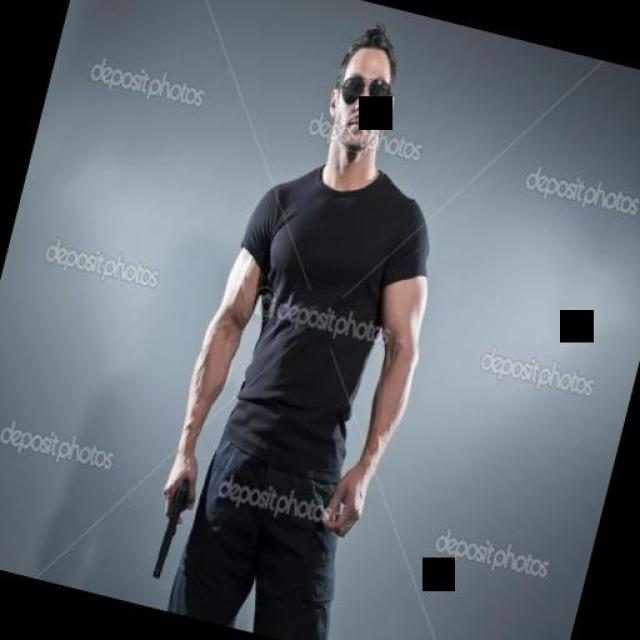gun: (132, 448, 206, 592)
